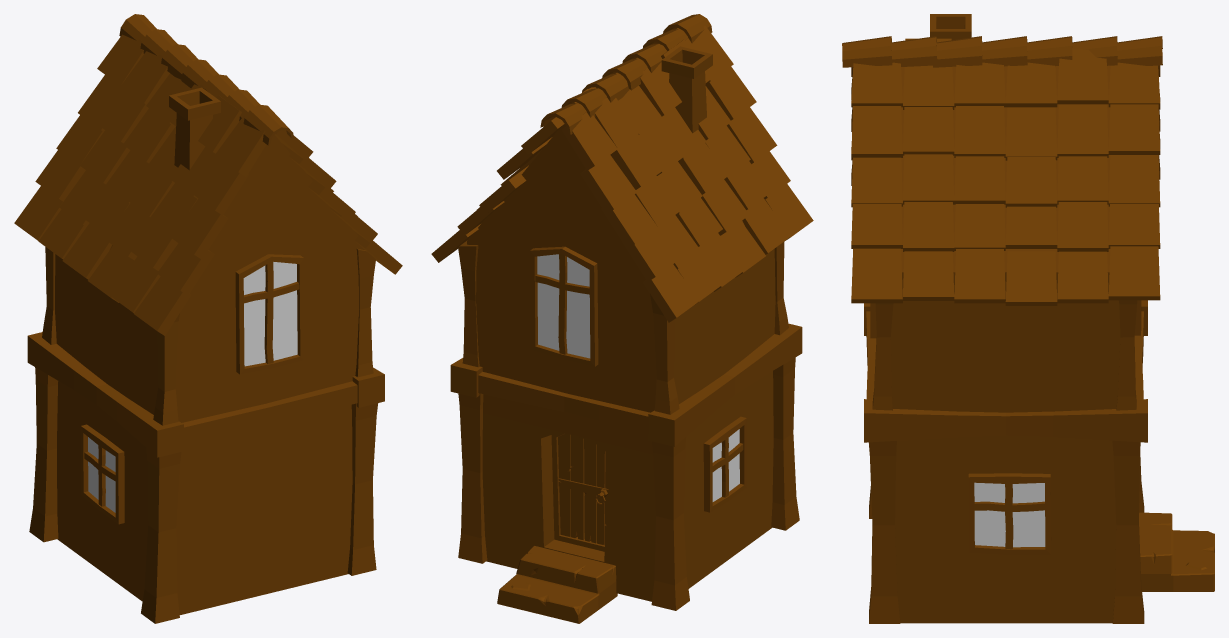
Rendered from дом8 .fbx.
3 renders of one model, left to right at view 1: azimuth 30°, elevation 25°; view 2: azimuth 150°, elevation 25°; view 3: azimuth 270°, elevation 25°, orthographic. The views are drawn at different scales.
Parts seen in each view (by area): view 1: Куб.048; view 2: Куб.048; view 3: Куб.048.
Part boxes in pixels (box(x1,y1,x2,y2)): Куб.048: box(14, 14, 402, 623); Куб.048: box(431, 14, 813, 623); Куб.048: box(842, 14, 1214, 623).
Bounding box in the file's own units: 137 × 258 × 162.
